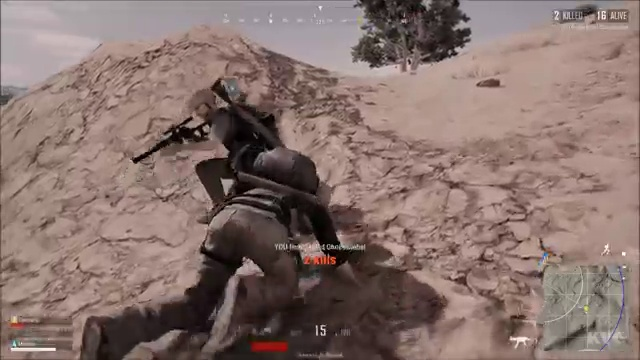Player: (156, 72, 287, 165)
